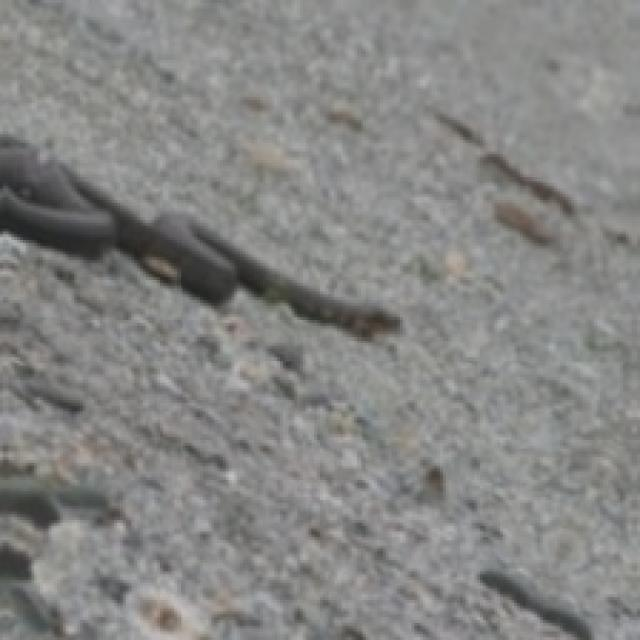king cobra: (0, 134, 397, 334)
